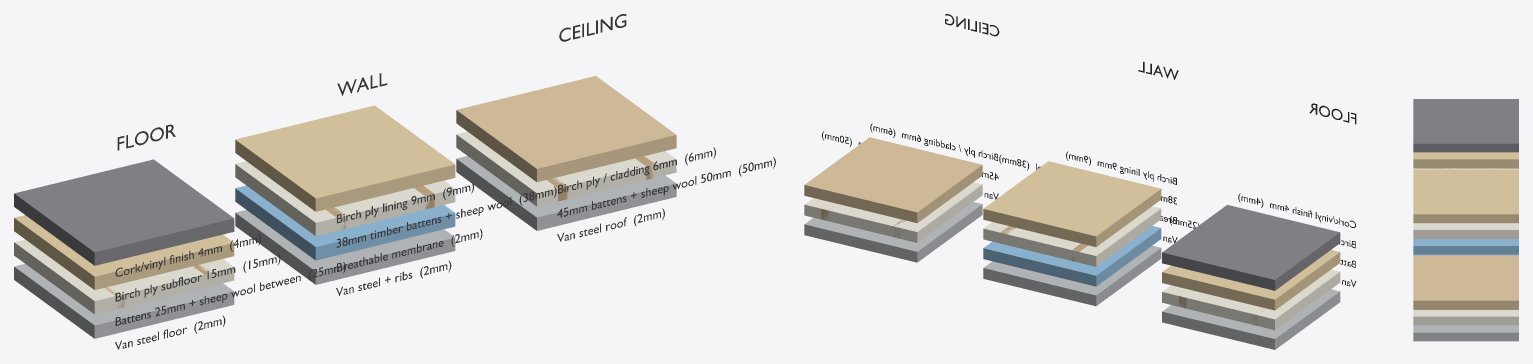
The model's file is van_section.glb.
3 renders of one model, left to right at view 1: azimuth 30°, elevation 25°; view 2: azimuth 150°, elevation 25°; view 3: azimuth 270°, elevation 25°, orthographic. The views are drawn at different scales.
Visible parts, largest first — view 1: WALL_Birch, CEILING_Birch, FLOOR_Cork/v, FLOOR_Birch, WALL_Breath, FLOOR_Van st, CEILING_Van st, FLOOR_Batten, WALL_Van st, WALL_38mm t, CEILING_45mm b, Text.002 (+5 smaller); view 2: FLOOR_Cork/v, CEILING_Birch, WALL_Birch, FLOOR_Van st, WALL_Van st, FLOOR_Birch, WALL_Breath, CEILING_Van st, CEILING_45mm b, FLOOR_Batten, WALL_38mm t, Text.013; view 3: FLOOR_Cork/v, WALL_Birch, CEILING_Birch, FLOOR_Birch, CEILING_Van st, WALL_Breath, WALL_38mm t, CEILING_45mm b, FLOOR_Batten, WALL_Van st.
Boxes of the visible parts, x1,y1,x2,y2 form: WALL_Birch: (235,105,455,211); CEILING_Birch: (456,76,676,182); FLOOR_Cork/v: (14,159,234,265); FLOOR_Birch: (14,215,234,289); WALL_Breath: (235,185,455,260); FLOOR_Van st: (14,264,234,338); CEILING_Van st: (456,156,676,230); FLOOR_Batten: (14,239,234,314); WALL_Van st: (235,210,455,284); WALL_38mm t: (235,161,455,235); CEILING_45mm b: (456,131,676,206); Text.002: (115,262,345,325); FLOOR_Cork/v: (1162,205,1340,290); CEILING_Birch: (804,137,982,223); WALL_Birch: (983,161,1161,246); FLOOR_Van st: (1162,289,1340,349); WALL_Van st: (983,245,1161,306); FLOOR_Birch: (1162,250,1340,310); WALL_Breath: (983,226,1161,286); CEILING_Van st: (804,202,982,262); CEILING_45mm b: (804,182,982,242); FLOOR_Batten: (1162,269,1340,330); WALL_38mm t: (983,206,1161,266); Text.013: (870,123,997,160); FLOOR_Cork/v: (1413,99,1518,152); WALL_Birch: (1413,169,1518,222); CEILING_Birch: (1413,256,1518,309); FLOOR_Birch: (1413,152,1518,168); CEILING_Van st: (1413,325,1518,341); WALL_Breath: (1413,239,1518,254); WALL_38mm t: (1413,223,1518,238); CEILING_45mm b: (1413,310,1518,325); FLOOR_Batten: (1413,168,1518,169); WALL_Van st: (1413,254,1518,255).
Size of the model in its own units: 2.84 by 0.8913 by 0.76.
